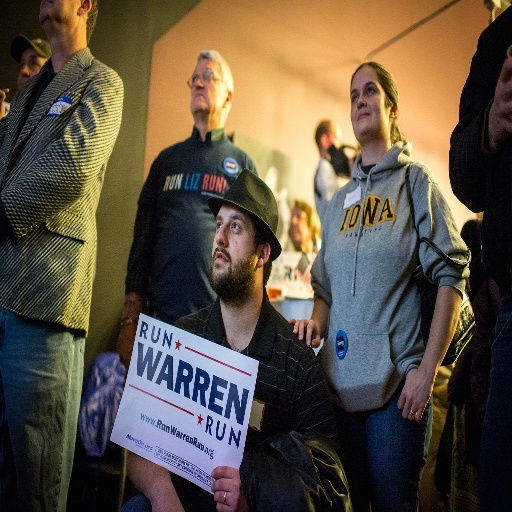hand: (403, 350, 441, 430), (488, 60, 511, 141), (210, 464, 249, 511), (287, 319, 320, 349), (152, 488, 185, 511), (116, 332, 133, 371), (0, 85, 10, 116)
